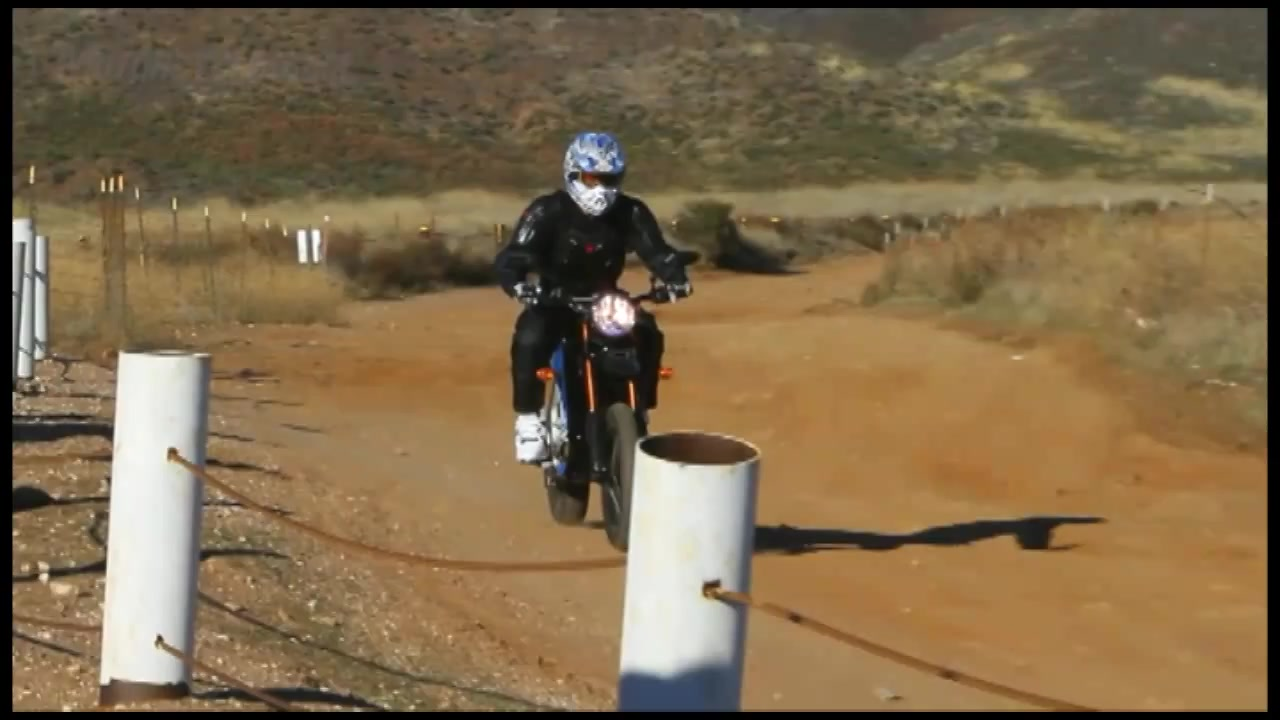motorbike: (508, 263, 692, 553)
